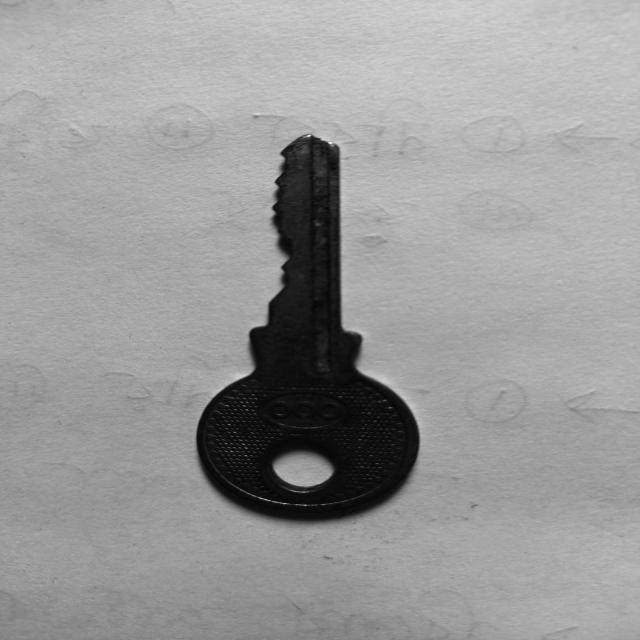KEY: (197, 135, 418, 513)
